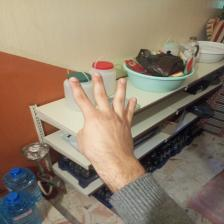four: (62, 73, 140, 163)
